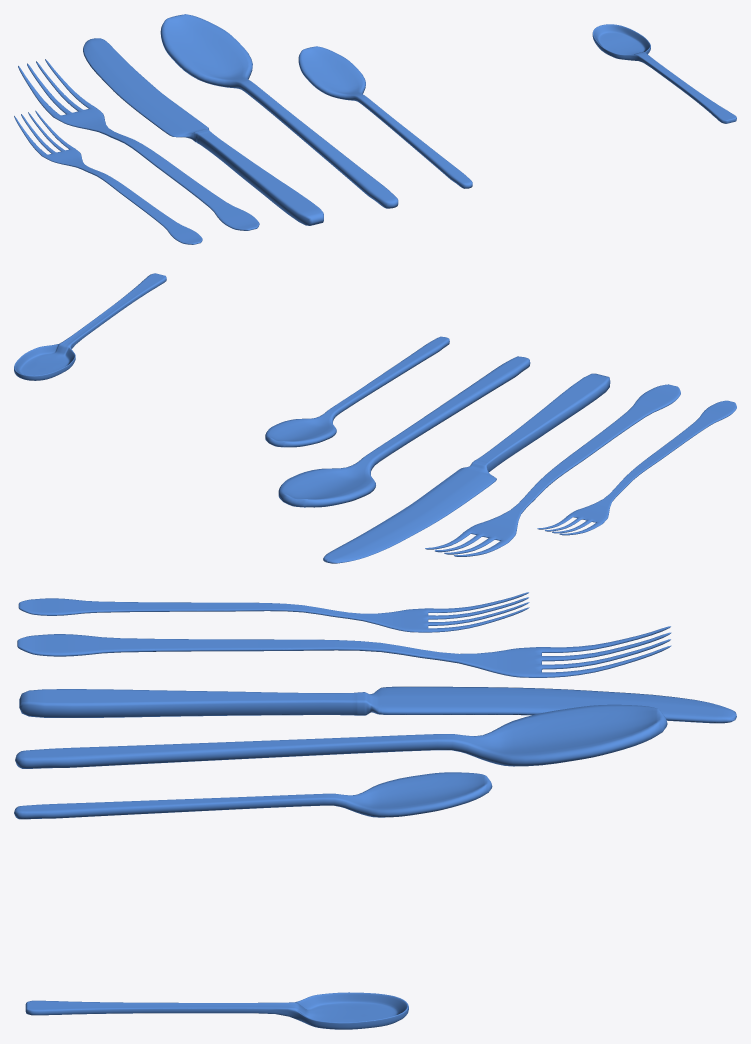
The model's file is for ele.obj.
3 views of the same model, one above another, from view 1: azimuth 30°, elevation 25°; view 2: azimuth 150°, elevation 25°; view 3: azimuth 270°, elevation 25° (orthographic). The views are drawn at different scales.
Visible parts, largest first — view 1: Plane002, Box002, Box001, Plane003, Box003, Box004; view 2: Box002, Plane002, Box001, Plane003, Box003, Box004; view 3: Box002, Plane002, Box001, Plane003, Box003, Box004.
Part boxes in pixels (left/top/right/bottom): Plane002: left=160, top=14, right=398, bottom=208; Box002: left=83, top=38, right=323, bottom=225; Box001: left=18, top=59, right=259, bottom=230; Plane003: left=298, top=46, right=472, bottom=188; Box003: left=592, top=24, right=736, bottom=123; Box004: left=14, top=110, right=202, bottom=244; Box002: left=323, top=373, right=610, bottom=563; Plane002: left=278, top=356, right=530, bottom=507; Box001: left=425, top=384, right=680, bottom=556; Plane003: left=265, top=336, right=449, bottom=447; Box003: left=14, top=273, right=166, bottom=380; Box004: left=537, top=400, right=736, bottom=535; Box002: left=19, top=686, right=736, bottom=723; Plane002: left=15, top=704, right=667, bottom=768; Box001: left=17, top=626, right=671, bottom=677; Plane003: left=14, top=772, right=492, bottom=819; Box003: left=25, top=992, right=408, bottom=1029; Box004: left=18, top=592, right=529, bottom=632.
Size of the model in its own units: 85.94 by 5.34 by 63.4.
